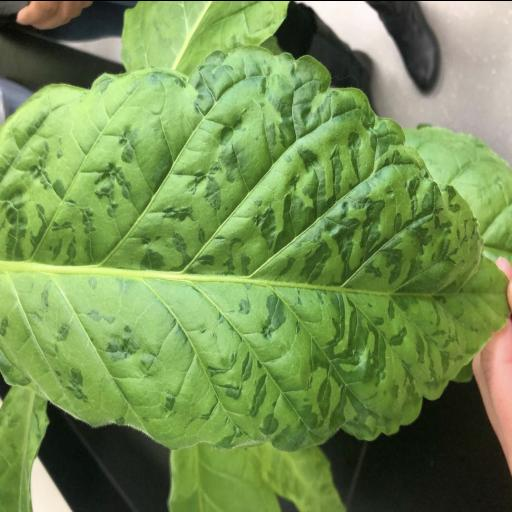Mosaic Virus: (0, 47, 512, 453)
